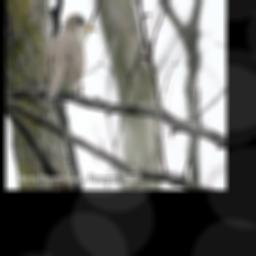Cuckoo: (44, 12, 95, 105)
